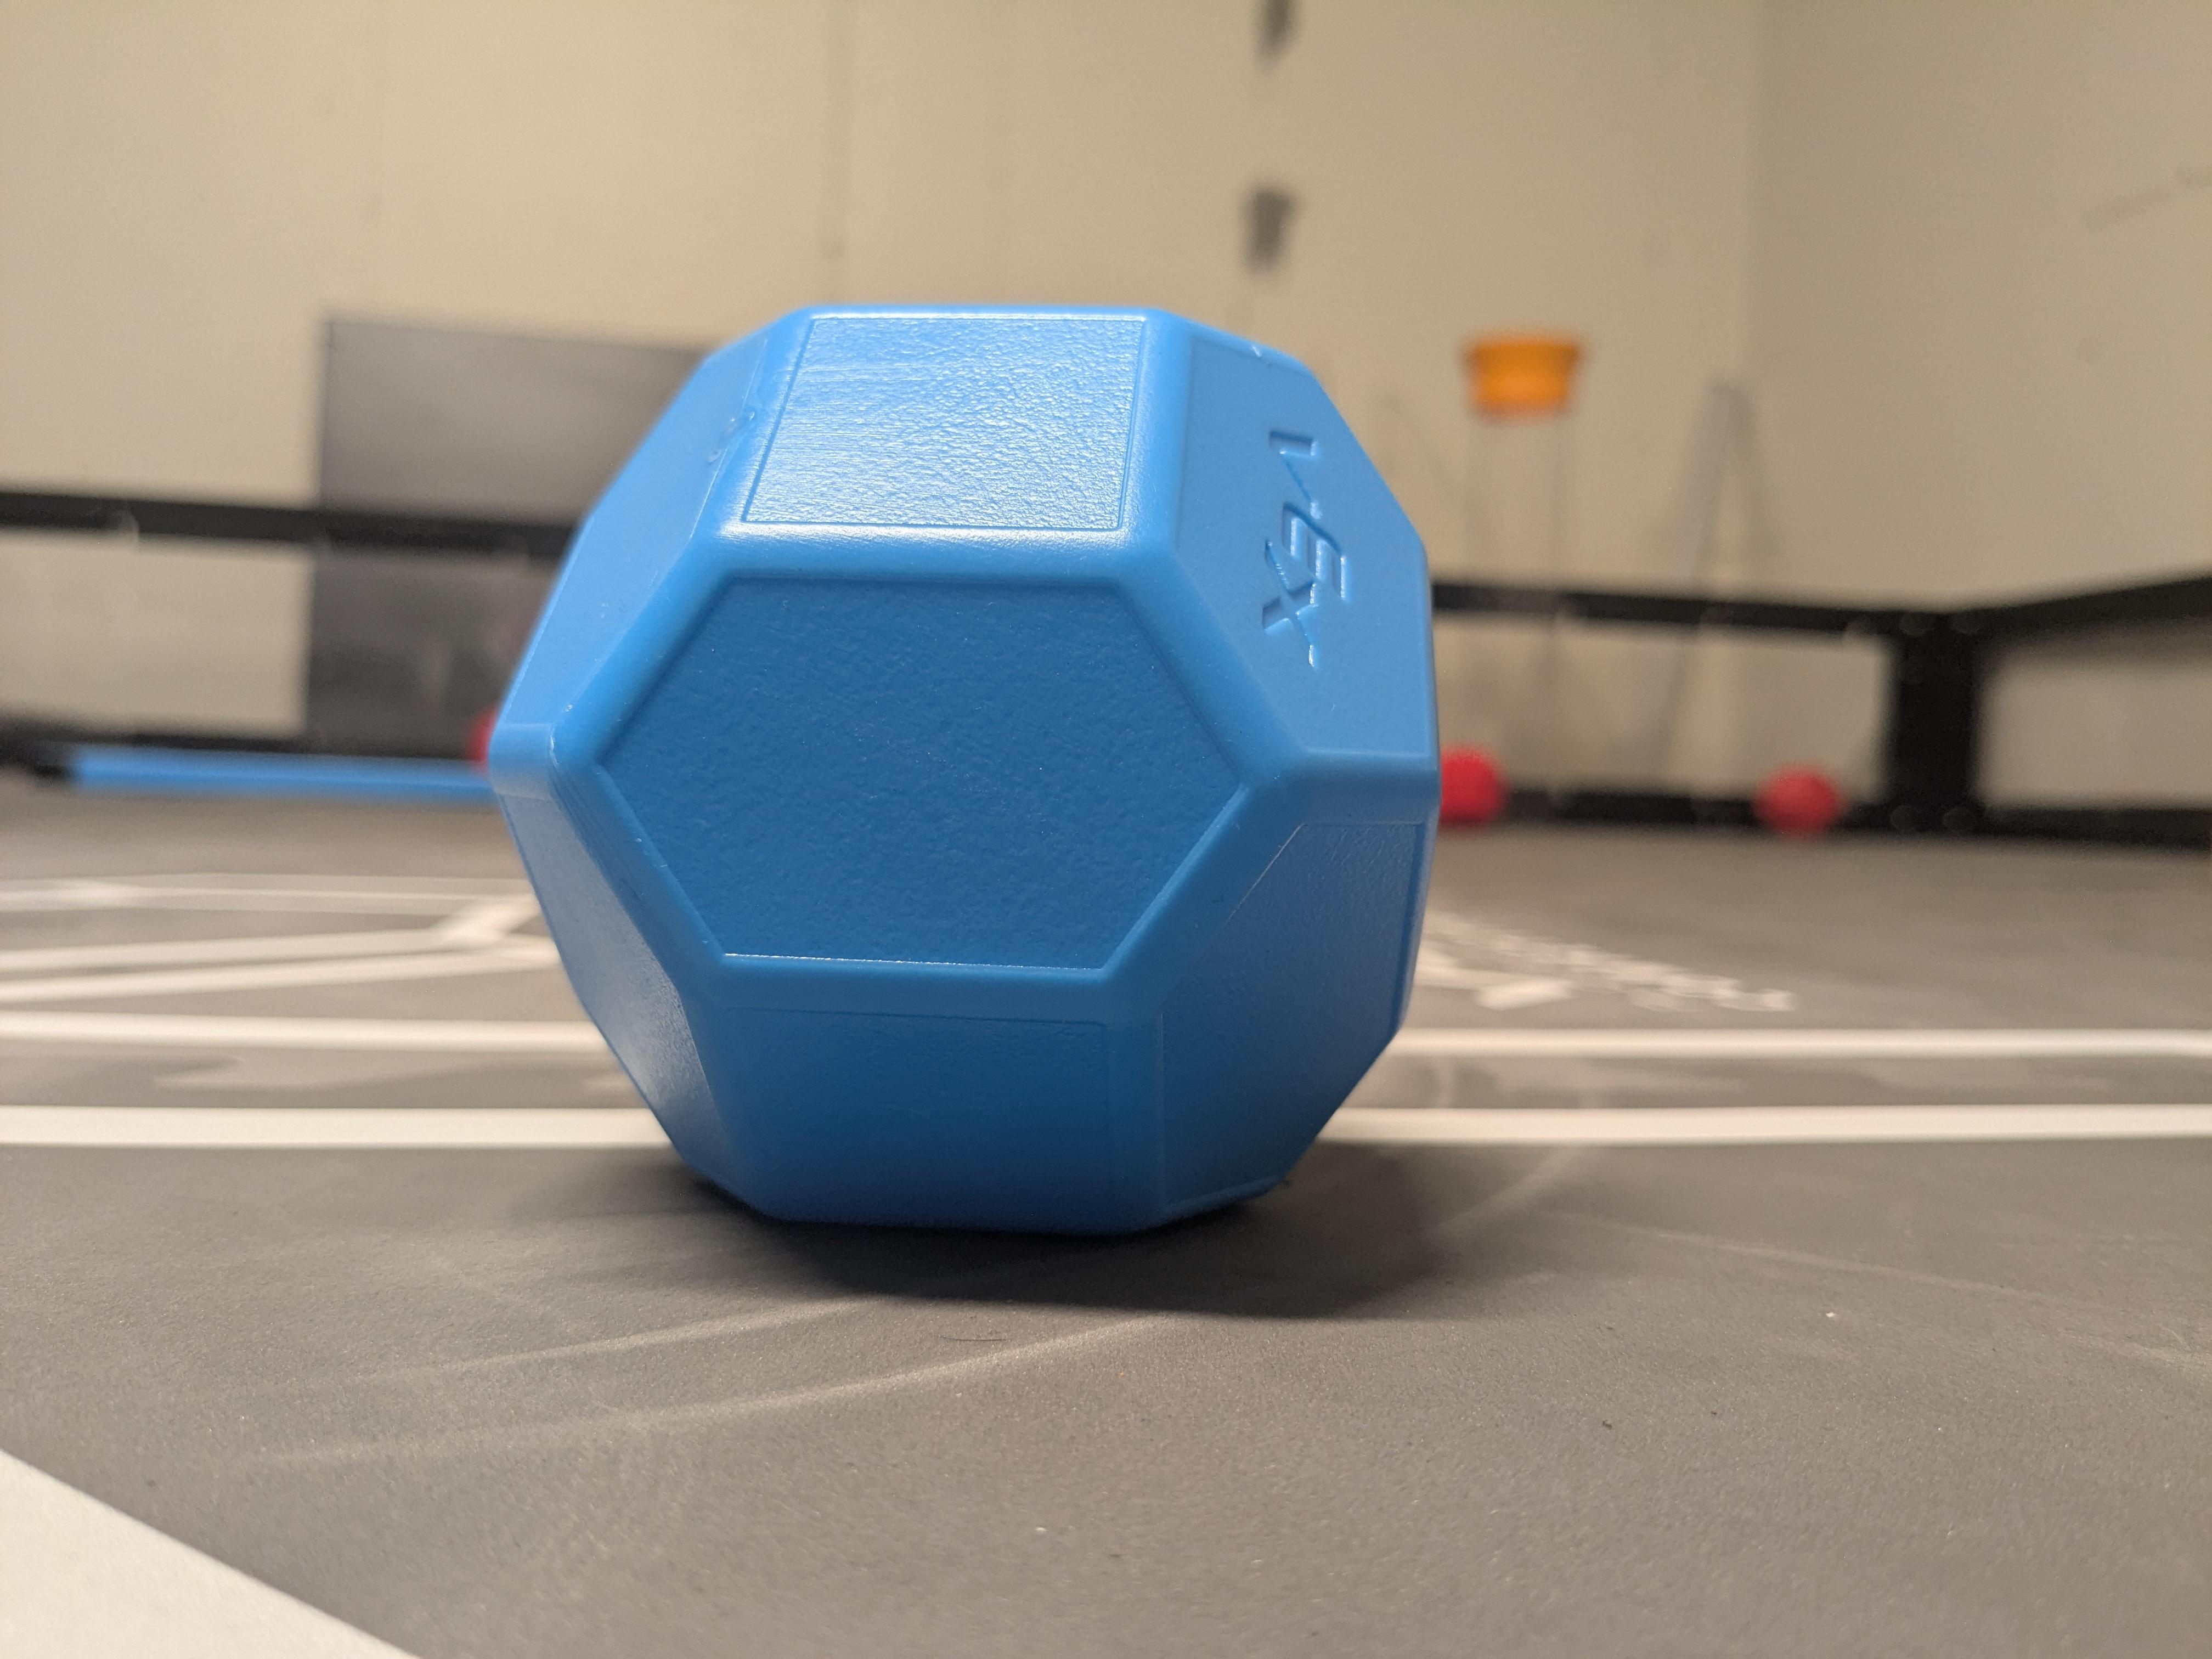Vex-Pieces-BLUE: (503, 301, 1468, 1249)
